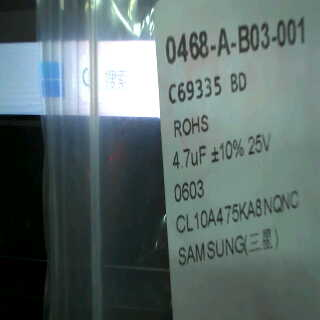4.7uF: (166, 144, 210, 173)
